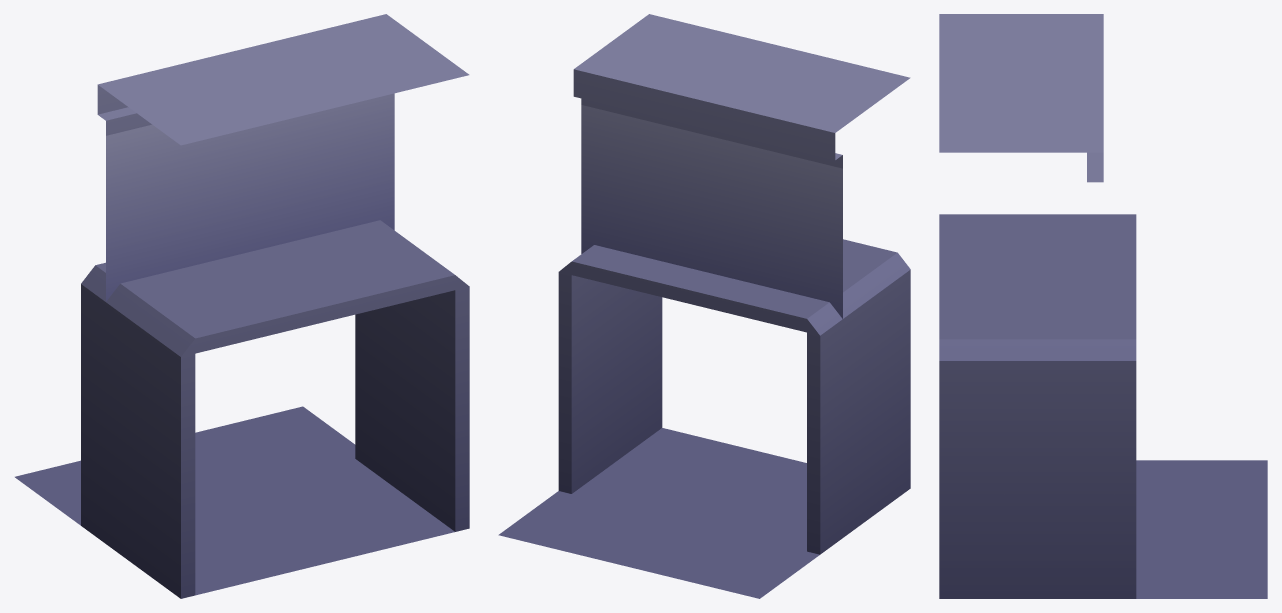
File: structure-doorway-wide.glb
The picture shows the model from 3 angles, left to right: view 1: azimuth 30°, elevation 25°; view 2: azimuth 150°, elevation 25°; view 3: azimuth 270°, elevation 25°; orthographic projection. The views are drawn at different scales.
Parts seen in each view (by area): view 1: structure-doorway-wide; view 2: structure-doorway-wide; view 3: structure-doorway-wide.
Part boxes in pixels (bbox=[...]): structure-doorway-wide: bbox=[15, 14, 469, 598]; structure-doorway-wide: bbox=[498, 14, 910, 598]; structure-doorway-wide: bbox=[939, 14, 1267, 598].
Bounding box in the file's own units: 2 × 3 × 2.
